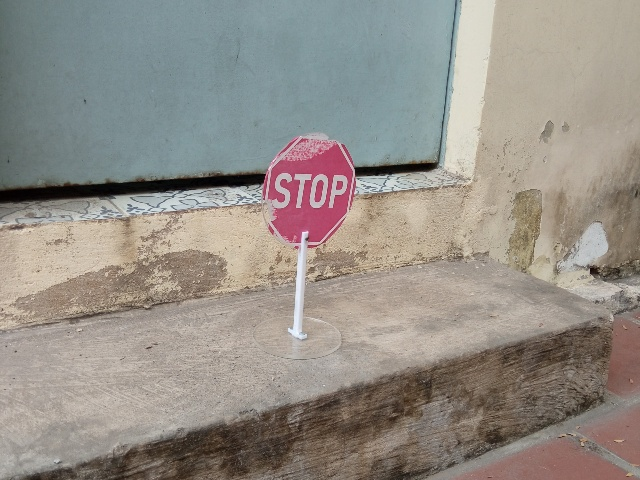Stop_Sign: (263, 131, 356, 248)
